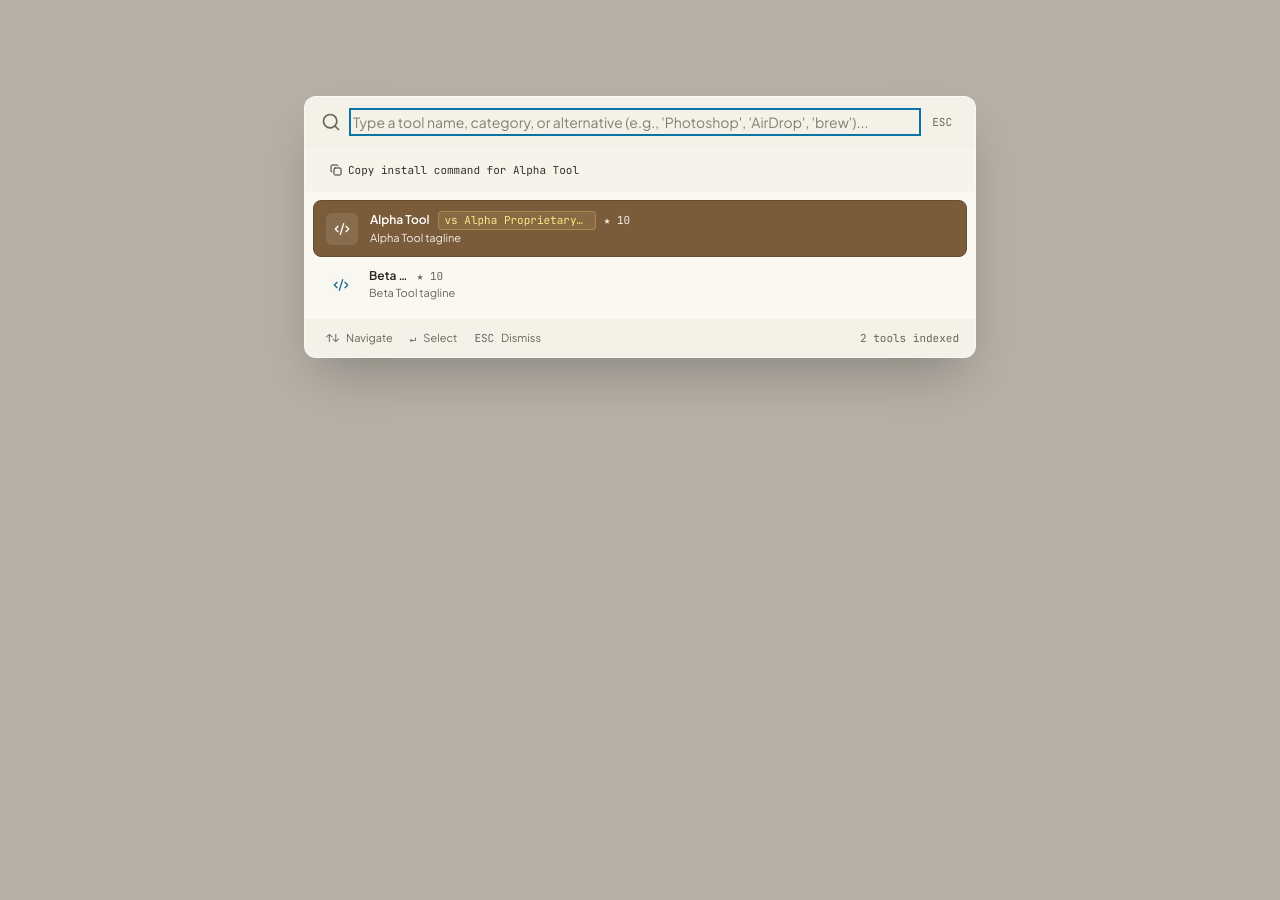
palette clipboard feedback › shows a real error state when the clipboard rejects the write
This screenshot has width=1280, height=900.
Click the button "Copy install command for Alpha Tool" at (454, 170), box [321,156,588,183]
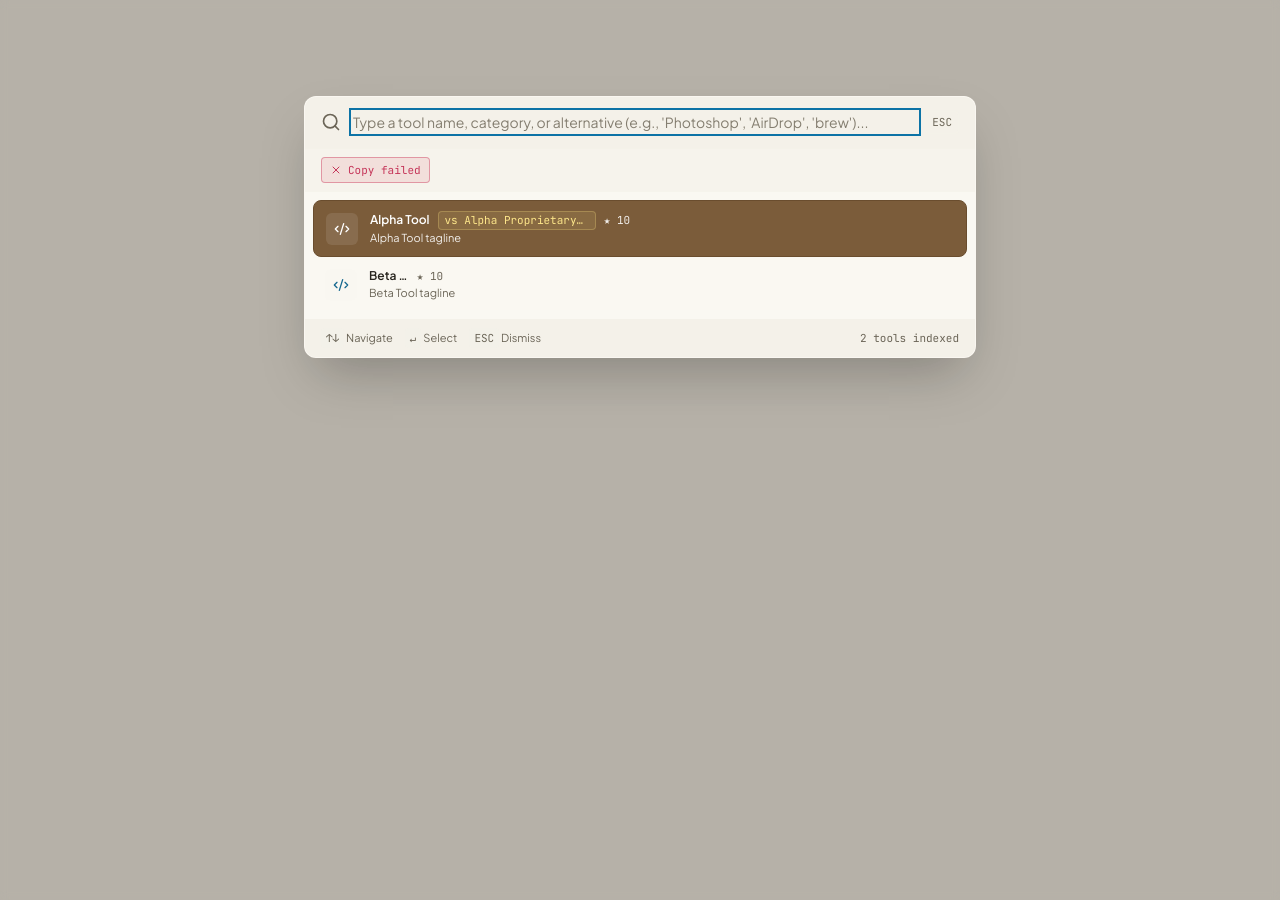
Expected: the text "Copy failed" is shown, [348,162,421,178]
